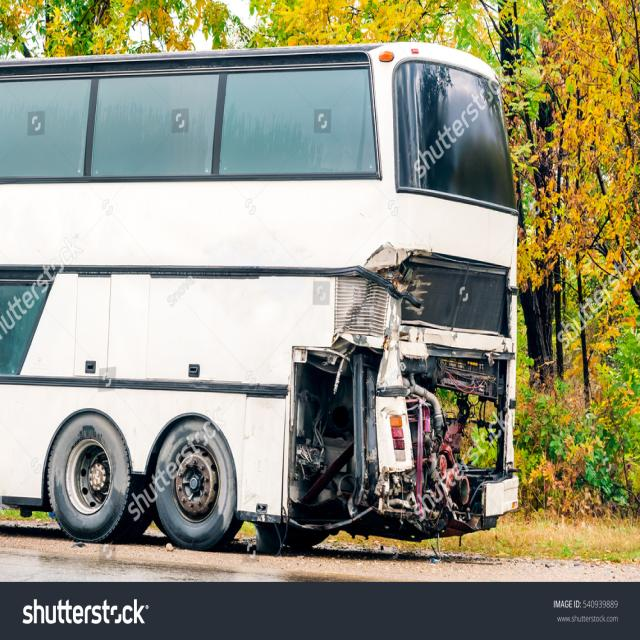Accident: (0, 46, 525, 546)
